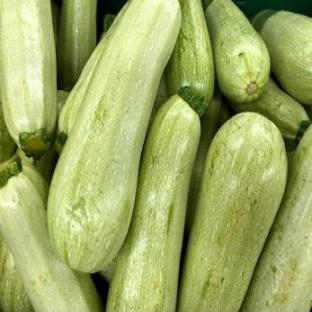Zucchini: (179, 113, 287, 311), (107, 95, 200, 311), (0, 154, 100, 311), (241, 128, 311, 311), (56, 33, 106, 152), (231, 78, 311, 149), (253, 10, 311, 104), (186, 89, 222, 233), (150, 75, 169, 124), (36, 146, 58, 184), (52, 2, 60, 47), (219, 98, 231, 128), (100, 260, 115, 283), (58, 90, 69, 117), (103, 14, 115, 33), (287, 150, 295, 171), (305, 106, 311, 119)
